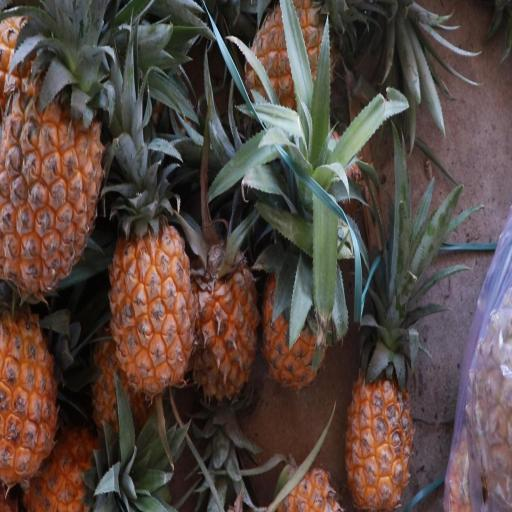Pineapple - v8 v1: (0, 43, 113, 300), (106, 198, 196, 400), (238, 0, 345, 146), (0, 302, 77, 490), (192, 215, 264, 411), (343, 332, 417, 512), (260, 219, 334, 395)
